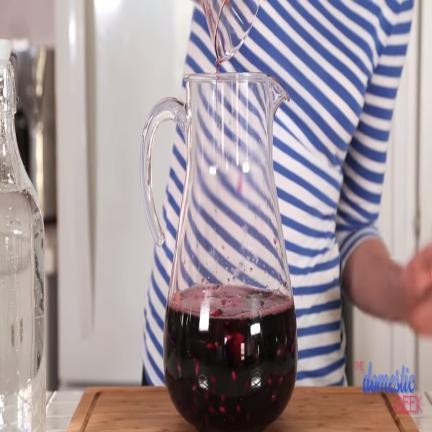container: (163, 73, 296, 430)
fluid: (163, 298, 296, 430)
fluid-surface: (170, 285, 294, 314)
